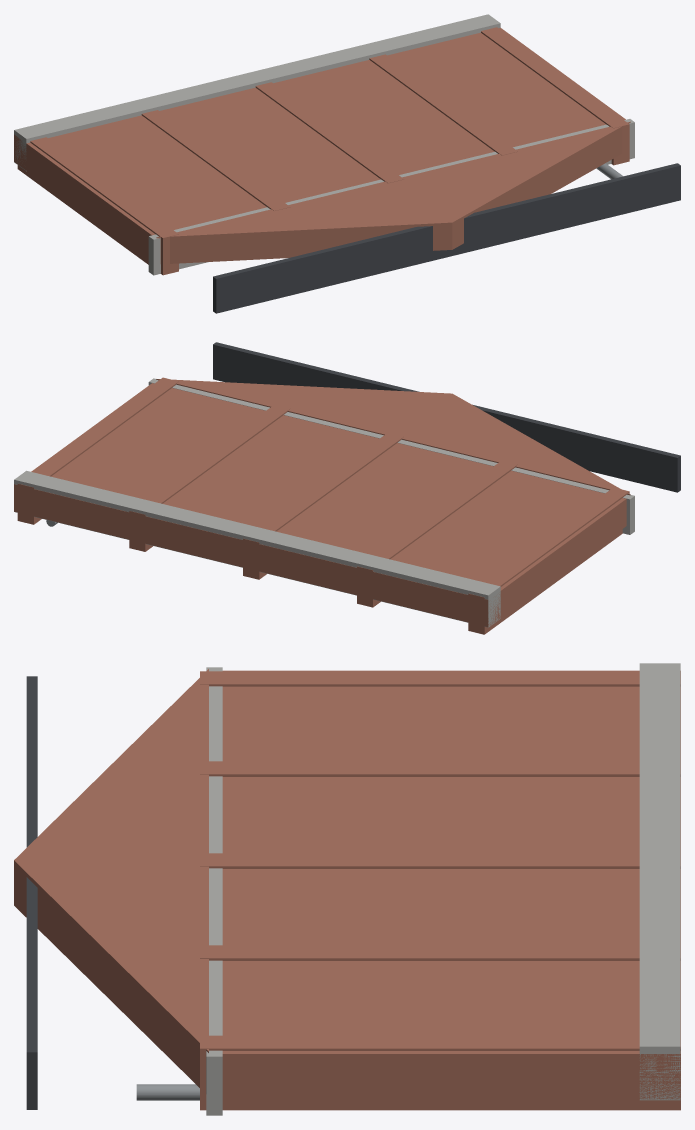
File: SM_Yilan_Distillery_RedBrickWarehouseFacade_HQ.glb
3 renders of one model, top to bottom at view 1: azimuth 30°, elevation 25°; view 2: azimuth 150°, elevation 25°; view 3: azimuth 270°, elevation 25°, orthographic. The views are drawn at different scales.
Parts seen in each view (by area): view 1: brick_wall, gable, ridge_shadow, concrete_plinth, pilaster_-4.75, pilaster_4.75, pilaster_0, pilaster_-2.4, pilaster_2.4, cornice; view 2: brick_wall, gable, ridge_shadow, concrete_plinth, pilaster_-4.75, pilaster_0, pilaster_2.4, pilaster_4.75, pilaster_-2.4, cornice; view 3: brick_wall, gable, concrete_plinth, pilaster_4.75, pilaster_-4.75, pilaster_-2.4, pilaster_0, pilaster_2.4, cornice, ridge_shadow, vertical_pipe.
Part boxes in pixels (<box>): brick_wall: <box>14,27,625,259</box>; gable: <box>156,121,630,263</box>; ridge_shadow: <box>213,163,680,313</box>; concrete_plinth: <box>14,14,500,171</box>; pilaster_-4.75: <box>17,137,178,275</box>; pilaster_4.75: <box>481,27,629,165</box>; pilaster_0: <box>255,82,404,183</box>; pilaster_-2.4: <box>141,110,290,210</box>; pilaster_2.4: <box>369,54,517,155</box>; cornice: <box>148,119,634,275</box>; brick_wall: <box>14,383,626,626</box>; gable: <box>156,379,630,495</box>; ridge_shadow: <box>213,342,680,492</box>; concrete_plinth: <box>14,470,500,627</box>; pilaster_-4.75: <box>468,487,629,634</box>; pilaster_0: <box>243,432,403,579</box>; pilaster_2.4: <box>129,404,290,551</box>; pilaster_4.75: <box>17,377,178,524</box>; pilaster_-2.4: <box>357,460,517,607</box>; cornice: <box>148,378,634,534</box>; brick_wall: <box>222,670,680,1099</box>; gable: <box>14,669,208,1093</box>; concrete_plinth: <box>639,663,680,1100</box>; pilaster_4.75: <box>200,1035,680,1110</box>; pilaster_-4.75: <box>200,671,680,686</box>; pilaster_-2.4: <box>200,761,680,776</box>; pilaster_0: <box>200,853,680,868</box>; pilaster_2.4: <box>200,945,680,960</box>; cornice: <box>206,667,222,1115</box>; ridge_shadow: <box>26,676,37,1109</box>; vertical_pipe: <box>136,1084,199,1100</box>.
Size of the model in its own units: 10.15 by 0.925 by 7.35.
